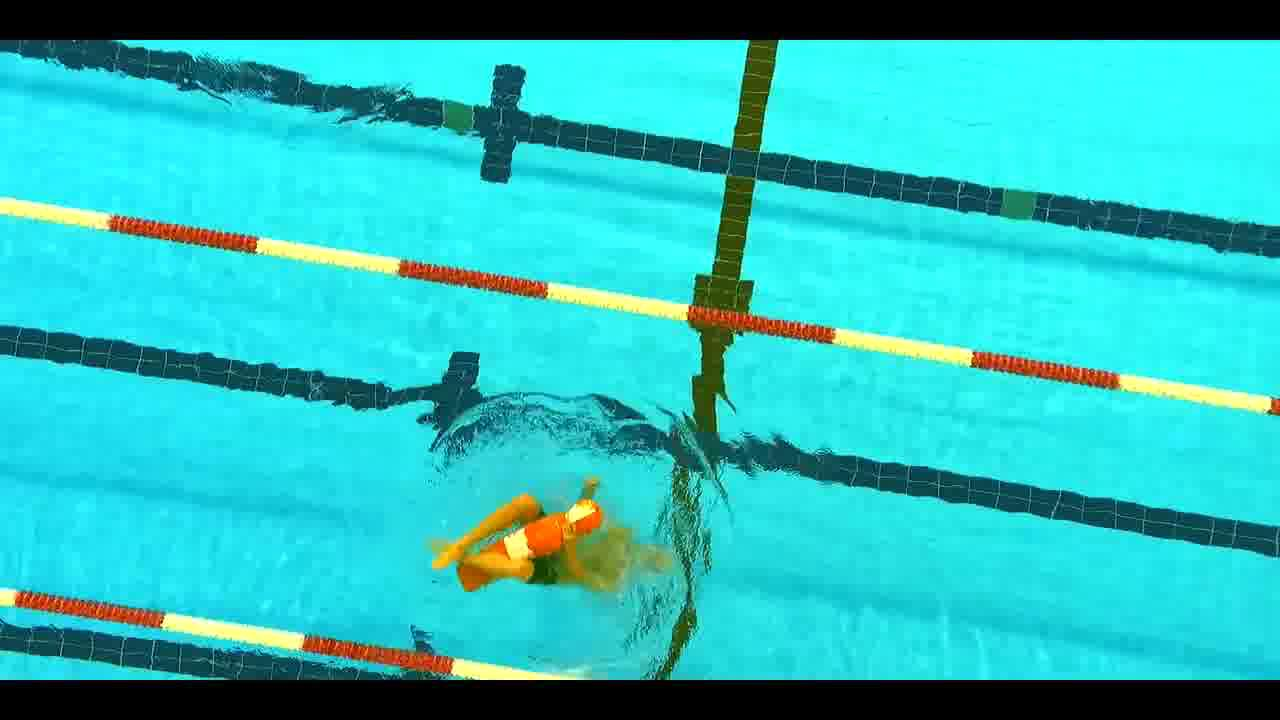swimmer: (435, 480, 660, 615)
